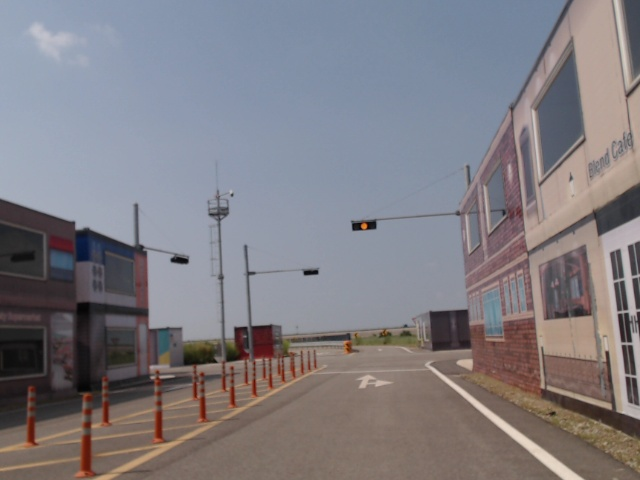orange_3: (353, 220, 379, 231)
